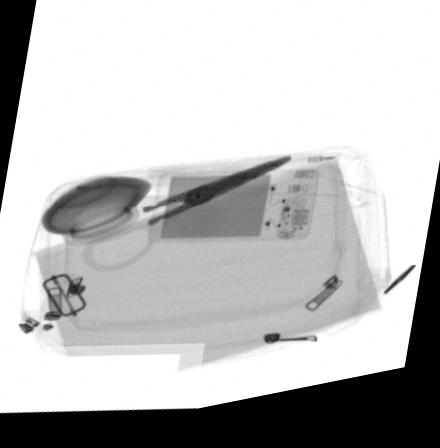Powerbank: (143, 177, 323, 253)
Scissors: (60, 163, 299, 276)
